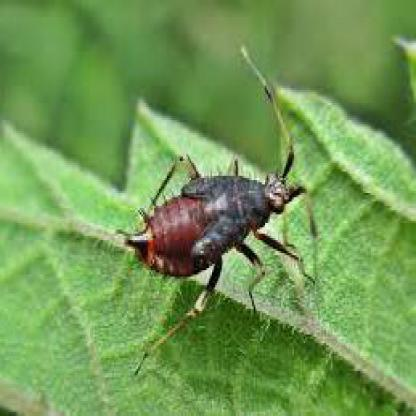uroleucon compositae: (123, 147, 306, 351)
